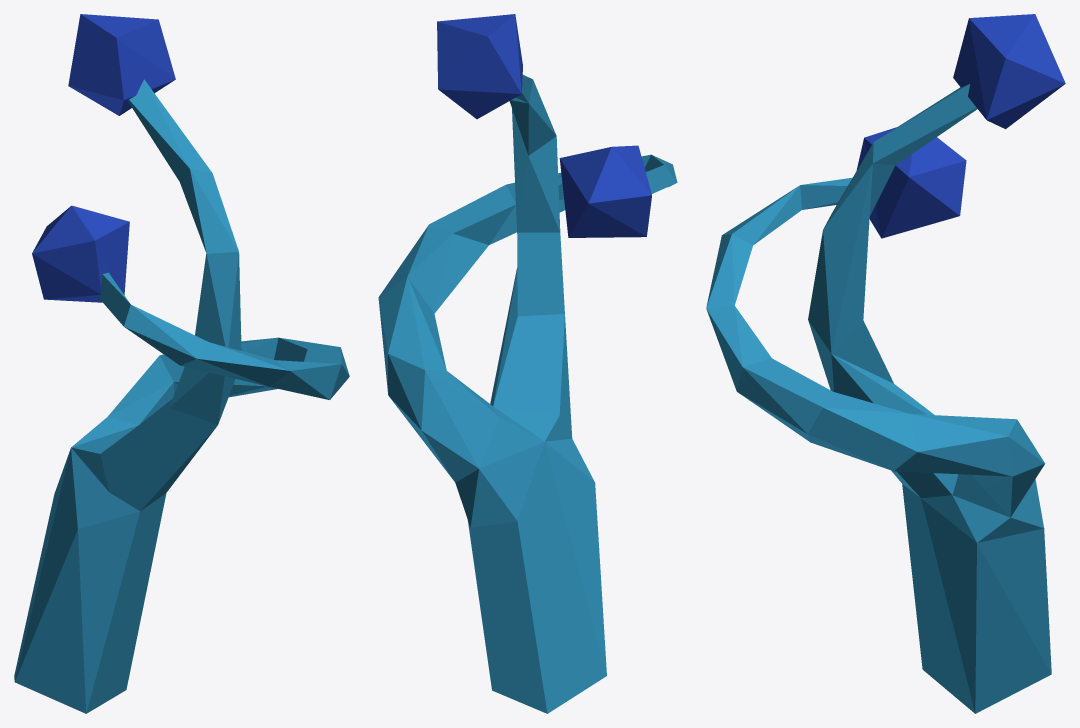
File: plantbleu.fbx
3 renders of one model, left to right at view 1: azimuth 30°, elevation 25°; view 2: azimuth 150°, elevation 25°; view 3: azimuth 270°, elevation 25°, orthographic. The views are drawn at different scales.
Visible parts, largest first — view 1: AlienPlantG; view 2: AlienPlantG; view 3: AlienPlantG.
Boxes of the visible parts, x1,y1,x2,y2 form: AlienPlantG: (14, 14, 349, 713); AlienPlantG: (378, 14, 677, 713); AlienPlantG: (706, 14, 1065, 713).
Size of the model in its own units: 167 by 391 by 184.
